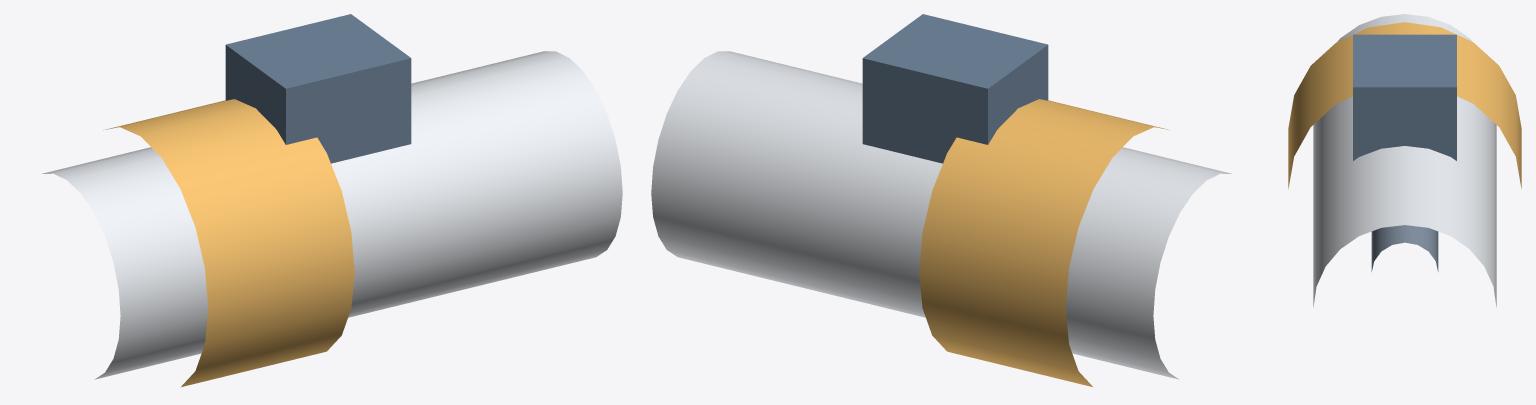
The model's file is lvdt_displacement_transducer.glb.
3 renders of one model, left to right at view 1: azimuth 30°, elevation 25°; view 2: azimuth 150°, elevation 25°; view 3: azimuth 270°, elevation 25°, orthographic. The views are drawn at different scales.
Visible parts, largest first — view 1: LVDTStainlessHousingTube, DifferentialSecondaryCoilBobbin, WiringTerminalHeaderBlock; view 2: LVDTStainlessHousingTube, DifferentialSecondaryCoilBobbin, WiringTerminalHeaderBlock; view 3: LVDTStainlessHousingTube, WiringTerminalHeaderBlock, DifferentialSecondaryCoilBobbin, NickelIronMagneticCoreRod.
Boxes of the visible parts, x1,y1,x2,y2 form: LVDTStainlessHousingTube: (42,51,622,379); DifferentialSecondaryCoilBobbin: (103,99,354,386); WiringTerminalHeaderBlock: (225,14,411,163); LVDTStainlessHousingTube: (651,51,1231,379); DifferentialSecondaryCoilBobbin: (919,99,1170,386); WiringTerminalHeaderBlock: (862,14,1048,163); LVDTStainlessHousingTube: (1313,14,1496,307); WiringTerminalHeaderBlock: (1353,34,1456,160); DifferentialSecondaryCoilBobbin: (1288,22,1521,188); NickelIronMagneticCoreRod: (1371,225,1438,271).
Size of the model in its own units: 1.2 by 0.655 by 0.56.
